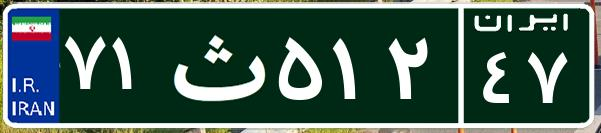1: (330, 28, 385, 110), (110, 28, 158, 105)
2: (385, 28, 445, 110)
4: (475, 38, 525, 113)
5: (273, 28, 330, 110)
7: (57, 26, 110, 107), (525, 38, 570, 115)
ث: (158, 15, 273, 115)
